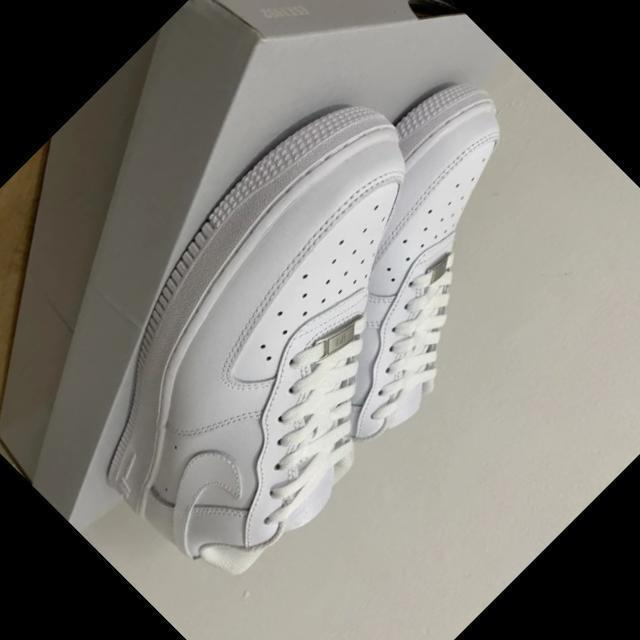nike original air force: (19, 70, 552, 604), (184, 59, 606, 482)
